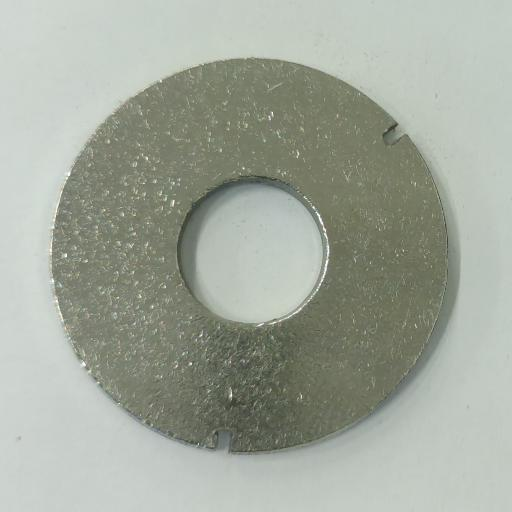burr: (379, 120, 409, 151), (209, 426, 234, 454)
